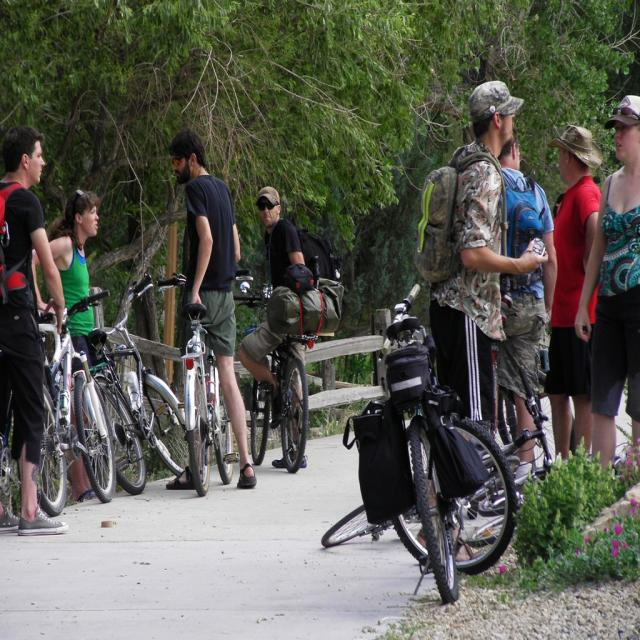body: (413, 80, 526, 563), (165, 126, 257, 493), (236, 182, 346, 471), (0, 123, 71, 536), (572, 91, 640, 485), (491, 121, 560, 484), (31, 188, 108, 501), (546, 123, 604, 466)
